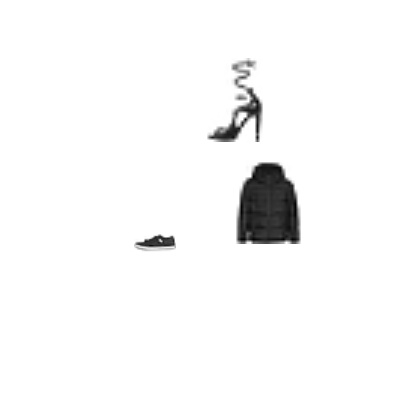Coat: (225, 160, 309, 244)
Sandal: (193, 58, 277, 142)
Sneaker: (134, 221, 176, 263)
